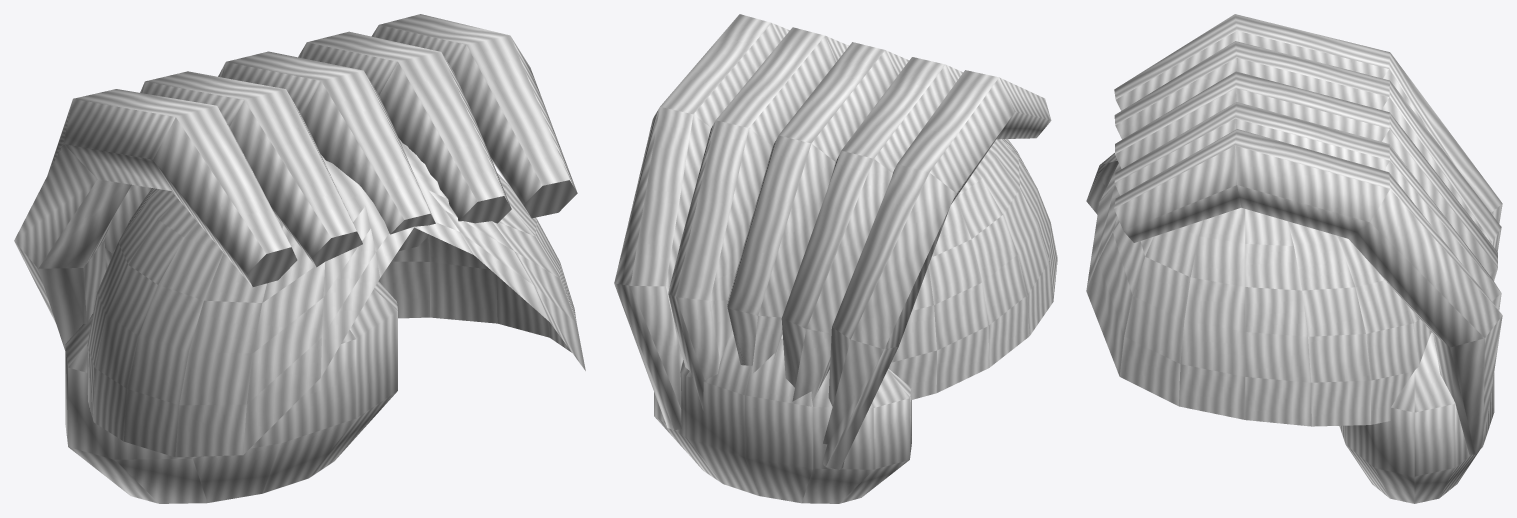
The model's file is hair_slick.glb.
3 renders of one model, left to right at view 1: azimuth 30°, elevation 25°; view 2: azimuth 150°, elevation 25°; view 3: azimuth 270°, elevation 25°, orthographic. The views are drawn at different scales.
Parts seen in each view (by area): view 1: hair_slick; view 2: hair_slick; view 3: hair_slick.
Boxes of the visible parts, left/top/right/bottom form: hair_slick: left=14, top=14, right=585, bottom=503; hair_slick: left=614, top=14, right=1057, bottom=503; hair_slick: left=1086, top=14, right=1502, bottom=503.
Bounding box in the file's own units: 0.2599 × 0.2924 × 0.273.
Materials: 1 (1 with a texture image).
